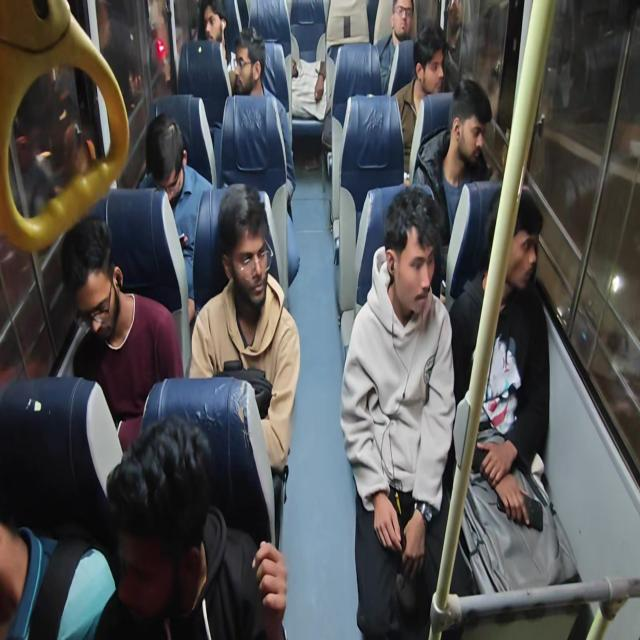person: (101, 411, 223, 592), (369, 171, 443, 317), (216, 174, 272, 318), (486, 174, 555, 289), (447, 67, 501, 178), (147, 104, 193, 216), (226, 27, 275, 96), (414, 22, 448, 108), (196, 0, 232, 54), (389, 0, 416, 46)
